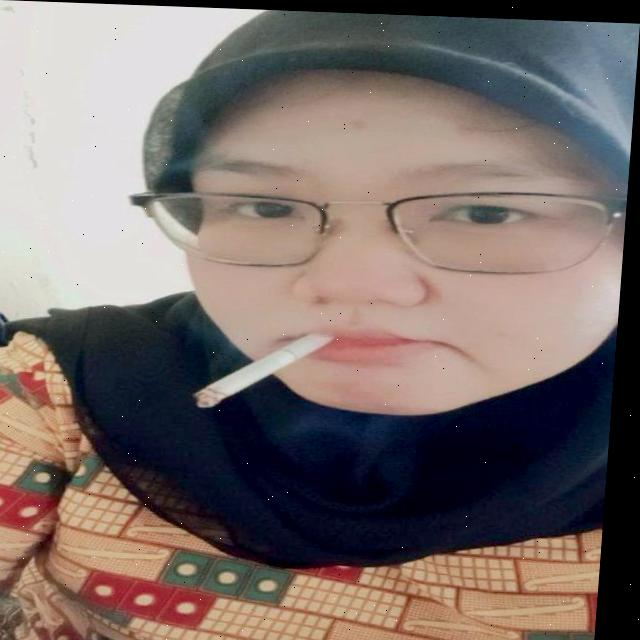cigarette: (200, 326, 340, 409)
